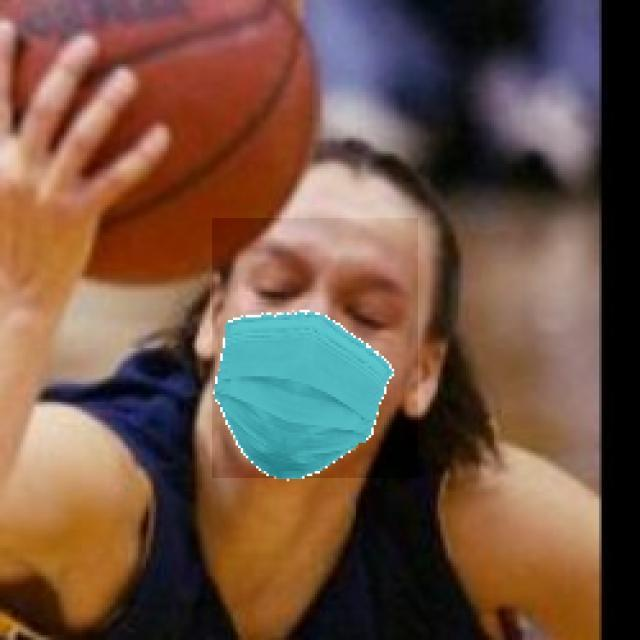surgical: (213, 218, 419, 478)
